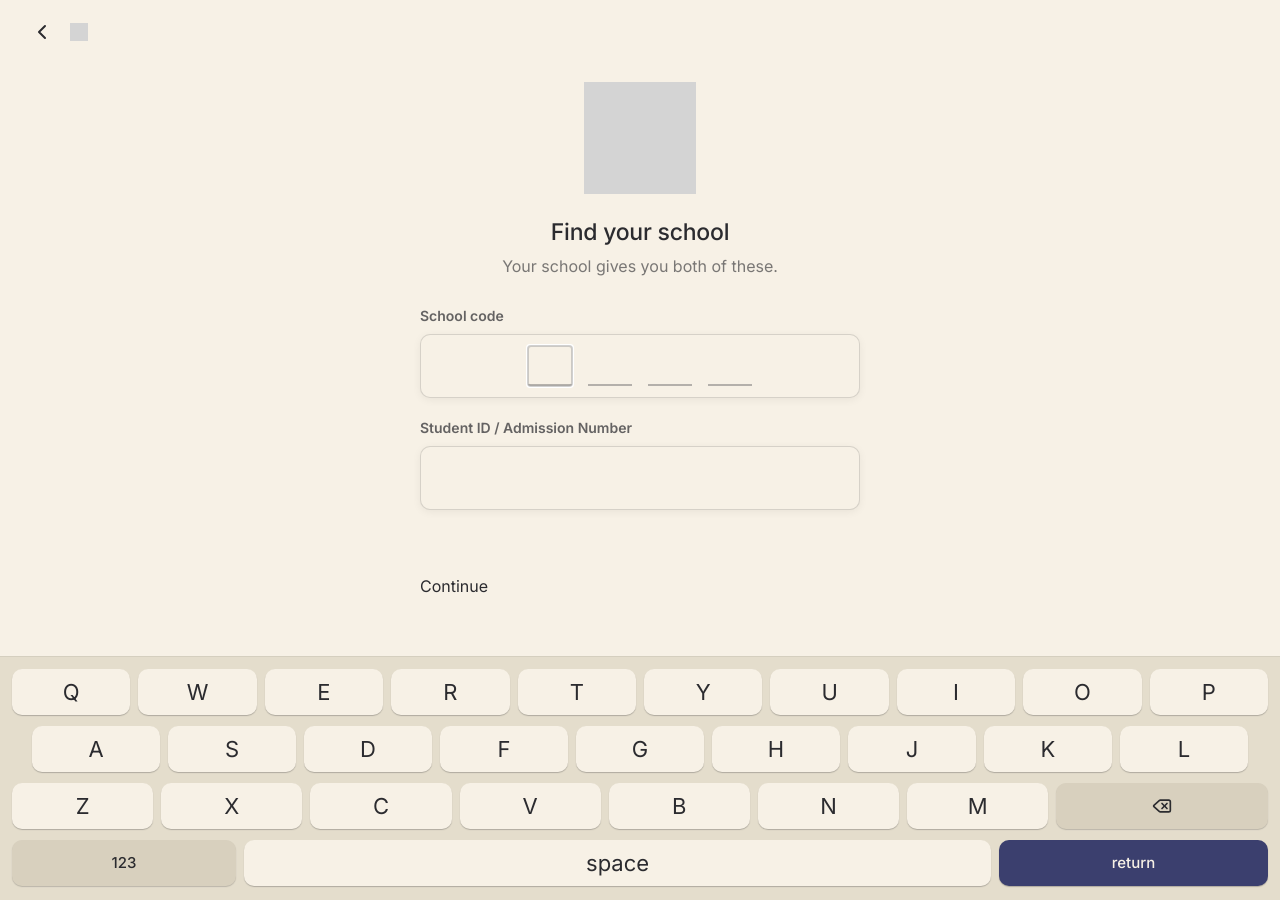
the school code cells › keeps the tray in capitals, as both fields are
Click the button "K": point(1048, 749) [984, 726, 1112, 772]
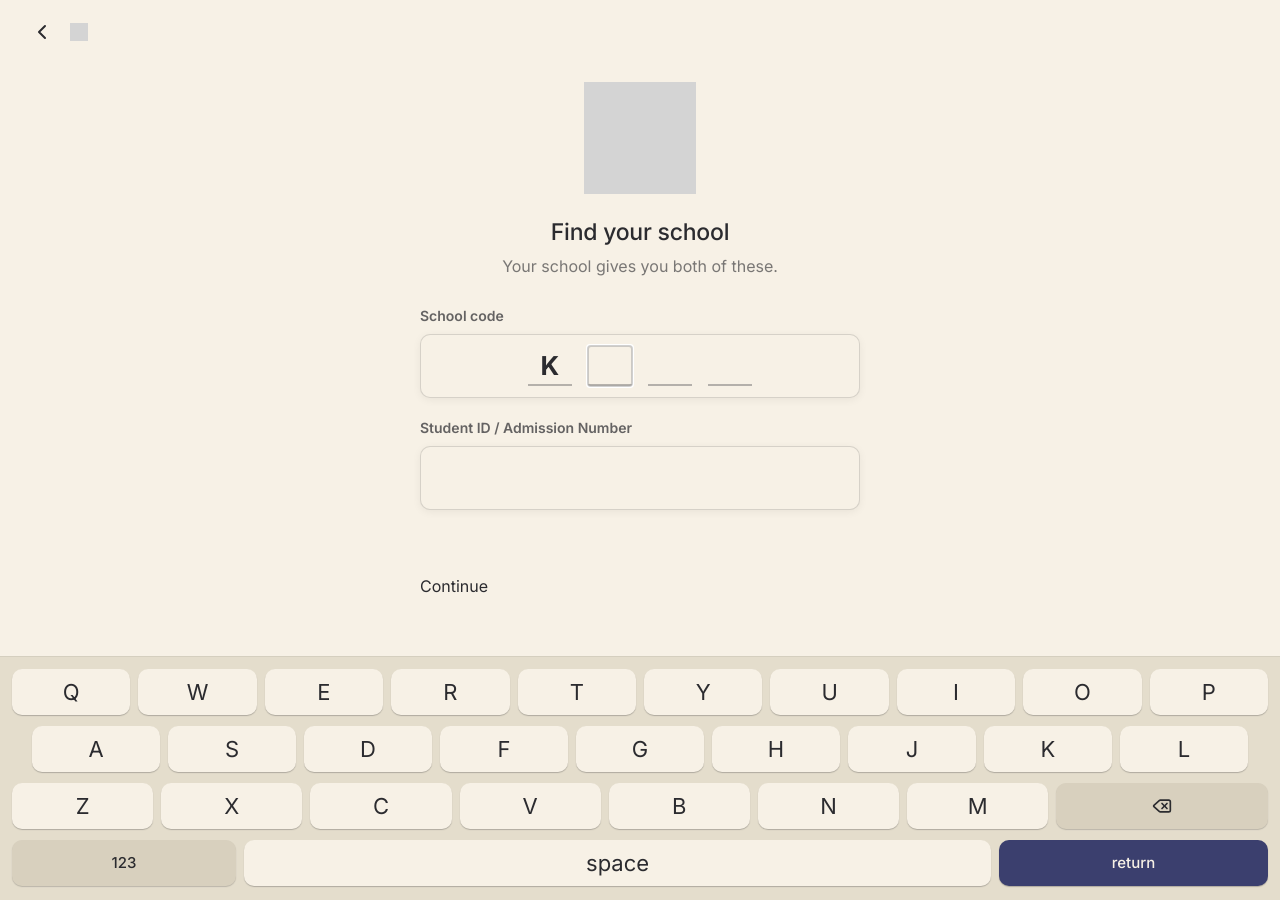
Expected: the button "D" is shown, [304, 726, 432, 772]
Expected: the field named "School code, character" holds "K", [528, 346, 572, 386]
